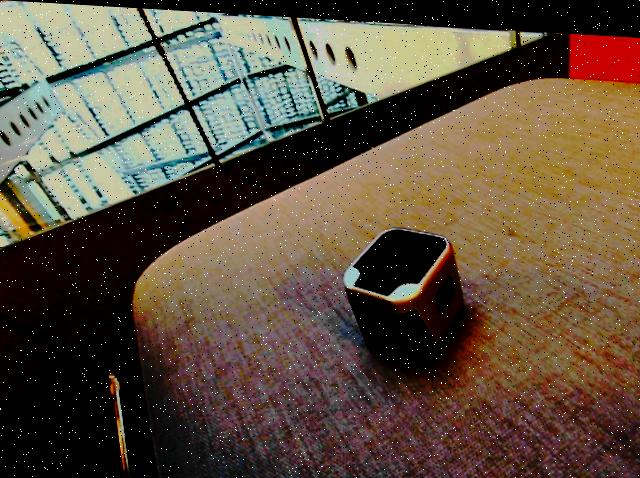adapter: (343, 220, 465, 364)
